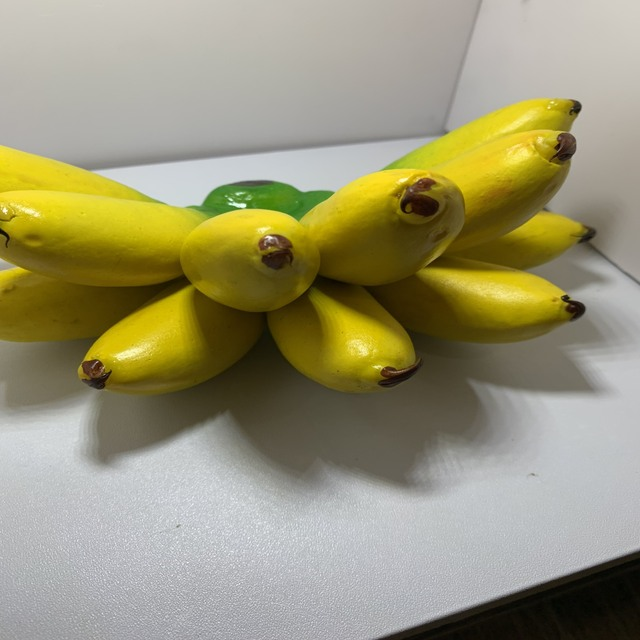Chuoi: (0, 88, 593, 400)
